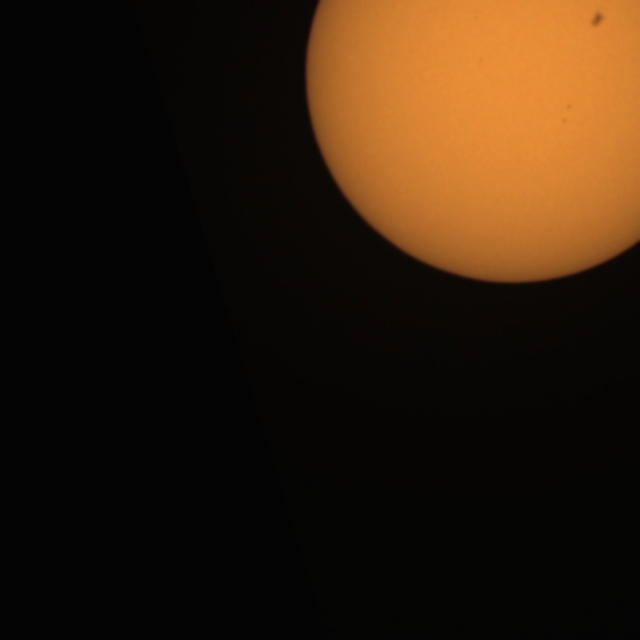sunspot: (588, 9, 608, 31), (560, 102, 574, 126), (475, 54, 486, 70)
